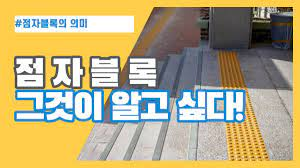guide_blocks: (226, 124, 268, 160), (218, 51, 245, 88)
